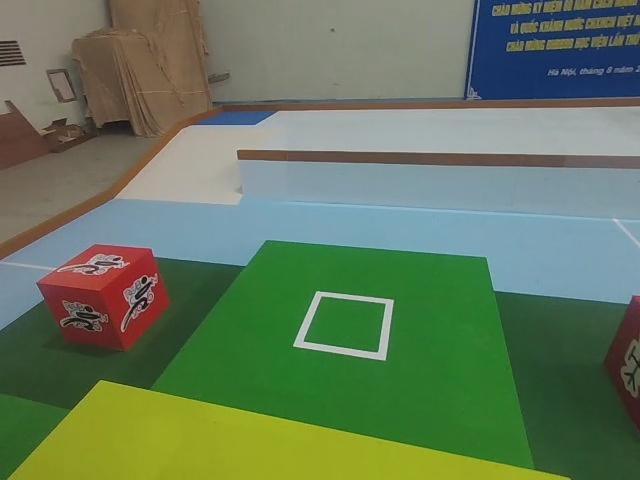R1: (35, 241, 173, 352)
